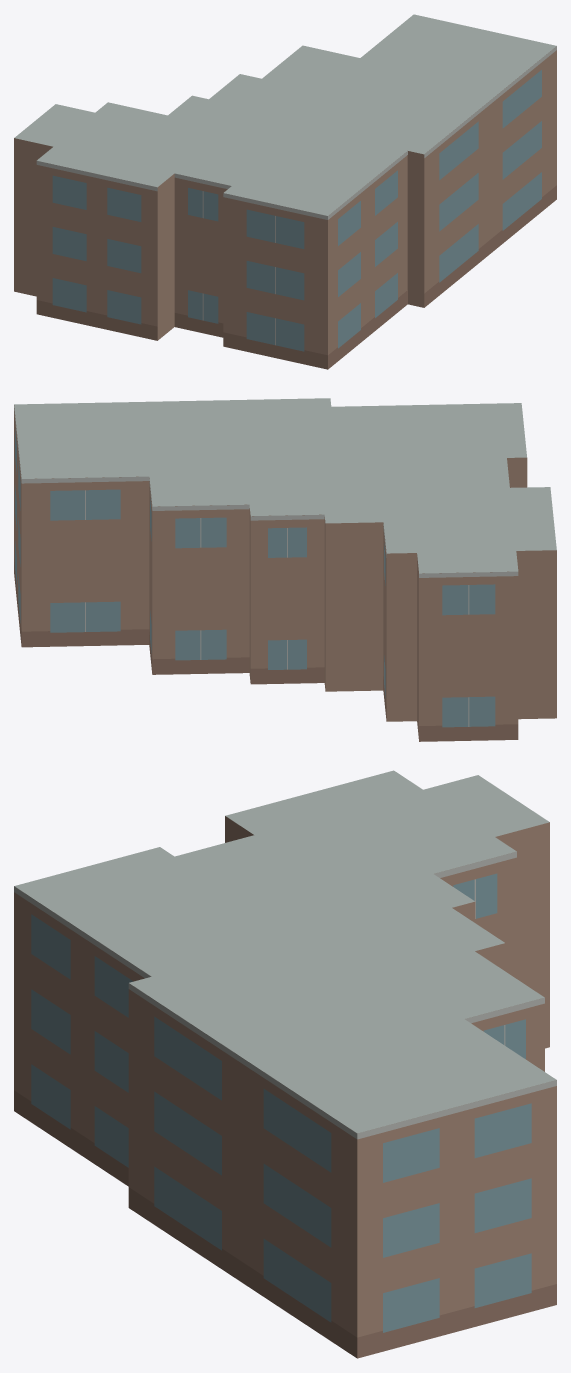
File: survey-upis-32581646.glb
The picture shows the model from 3 angles, top to bottom: view 1: azimuth 30°, elevation 25°; view 2: azimuth 150°, elevation 25°; view 3: azimuth 270°, elevation 25°; orthographic projection. The views are drawn at different scales.
Visible parts, largest first — view 1: survey-upis-32581646.tmp; view 2: survey-upis-32581646.tmp; view 3: survey-upis-32581646.tmp.
Boxes of the visible parts, x1,y1,x2,y2 form: survey-upis-32581646.tmp: [14, 14, 556, 369]; survey-upis-32581646.tmp: [14, 398, 556, 741]; survey-upis-32581646.tmp: [14, 770, 556, 1358].
Bounding box in the file's own units: 31.68 × 9.15 × 20.01.
